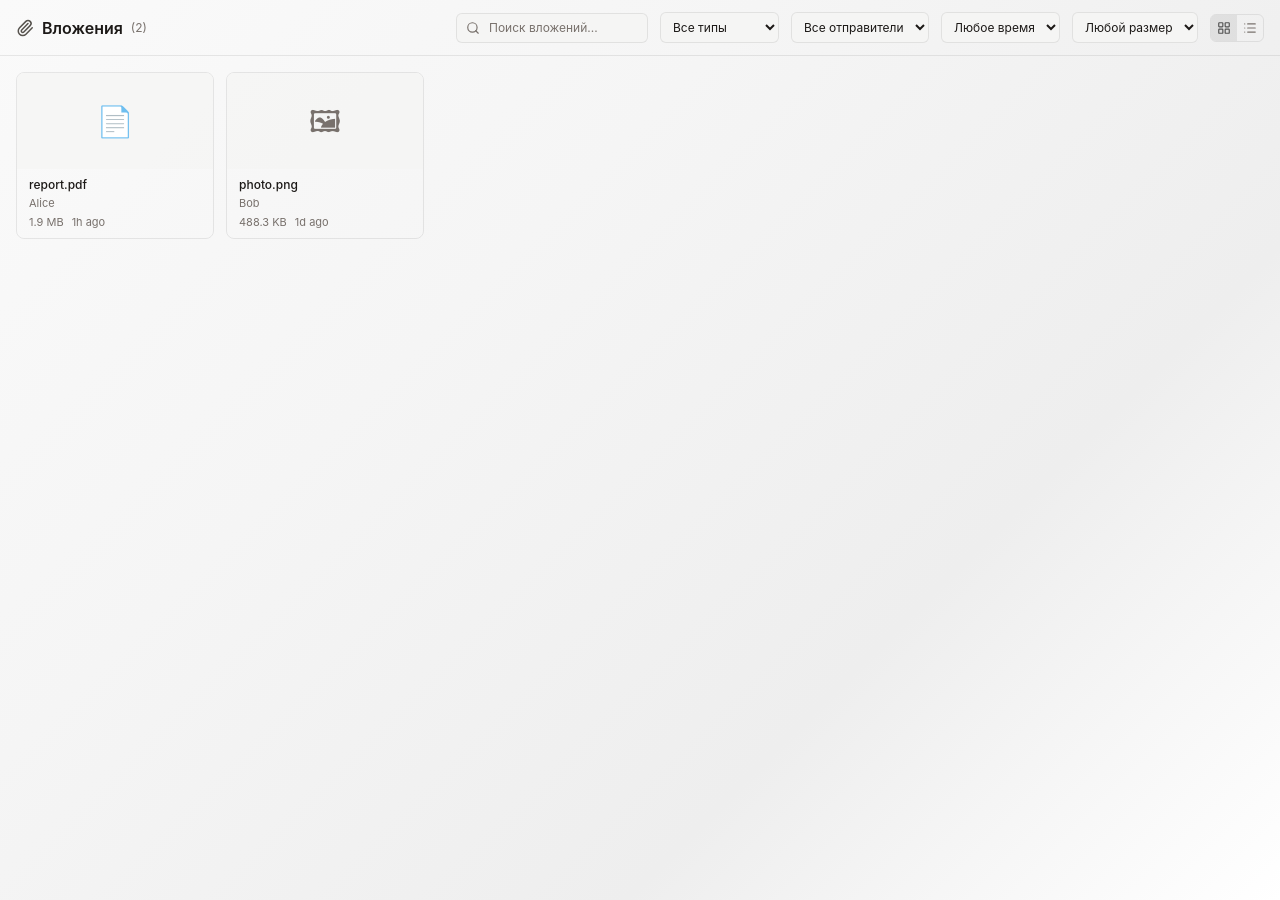
Test: AttachmentLibrary › filters by search query
Expected: the text "report.pdf" is shown, [29,177,87,192]
Type "report" into the field with placeholder "Поиск вложений..." at (552, 28), box [456,12,648,42]
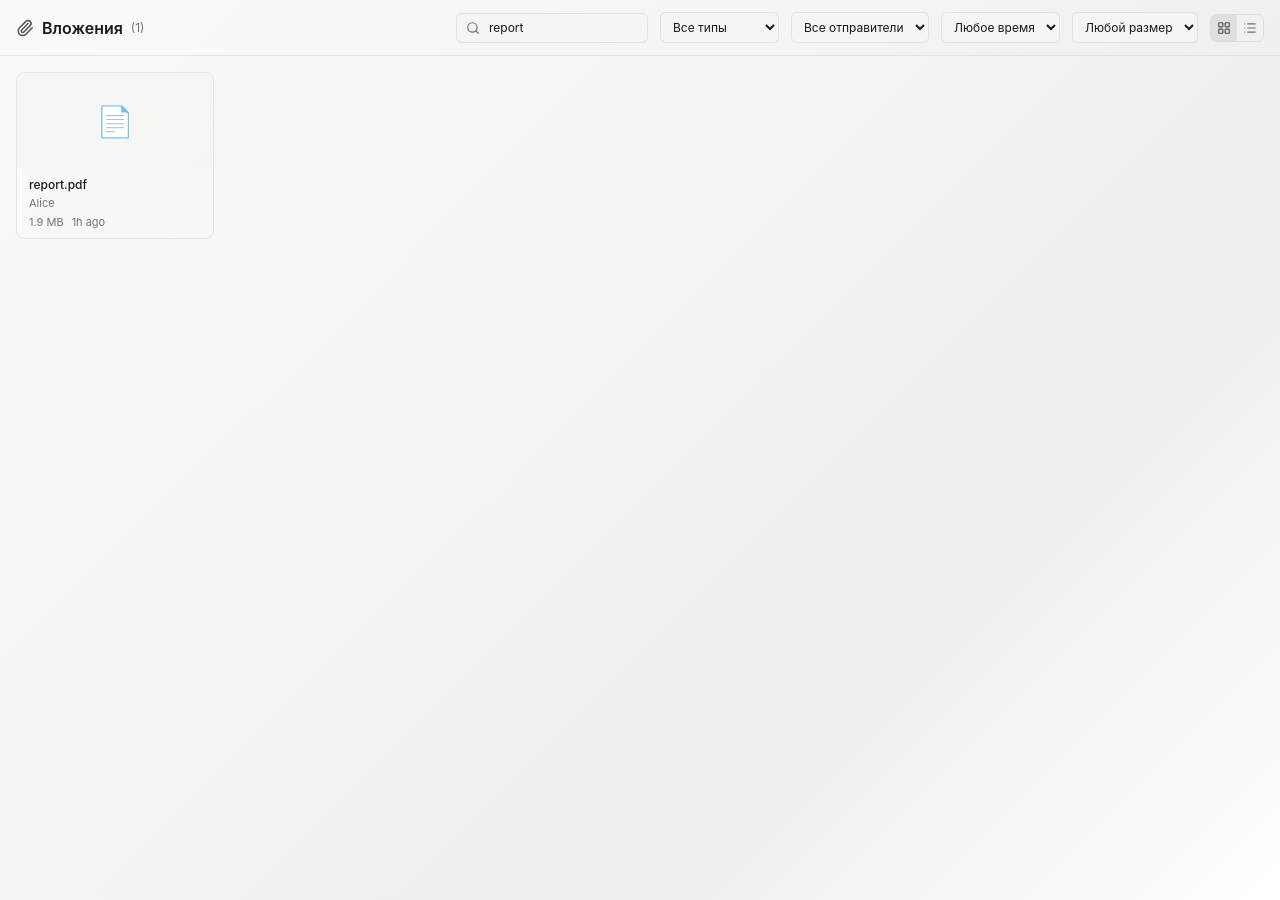
Expected: the text "report.pdf" is shown, [29,177,87,192]
Expected: the text "photo.png" is gone
